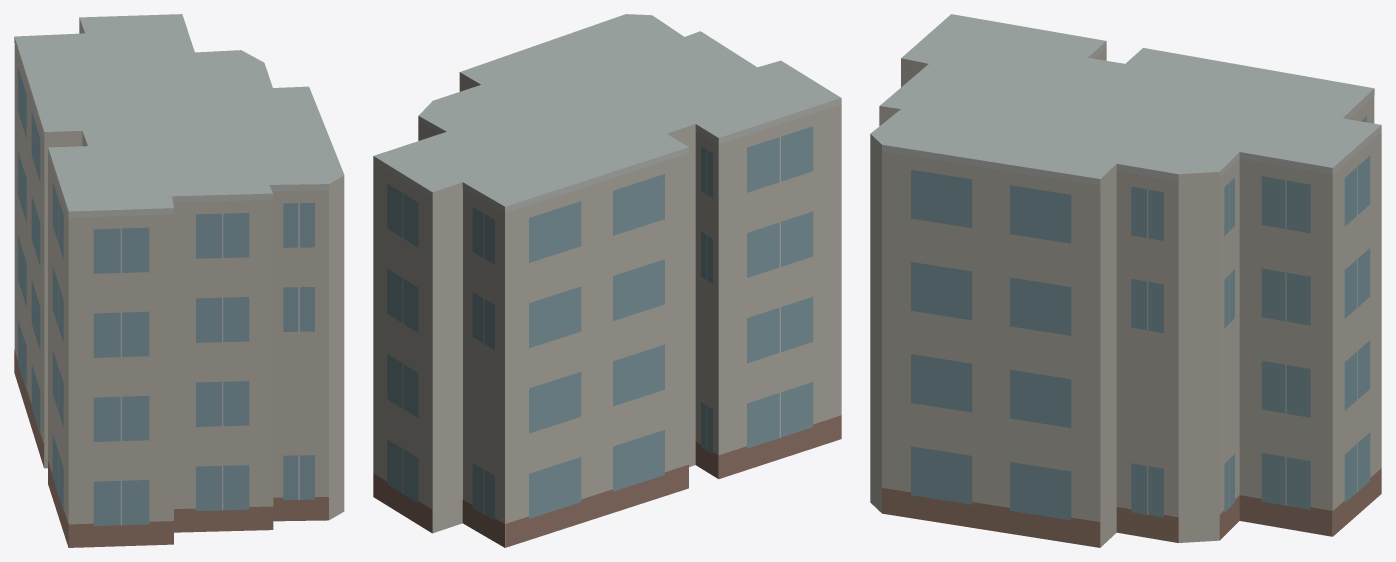
File: survey-upis-32629437.glb
The picture shows the model from 3 angles, left to right: view 1: azimuth 30°, elevation 25°; view 2: azimuth 150°, elevation 25°; view 3: azimuth 270°, elevation 25°; orthographic projection. The views are drawn at different scales.
Parts seen in each view (by area): view 1: survey-upis-32629437.tmp; view 2: survey-upis-32629437.tmp; view 3: survey-upis-32629437.tmp.
Boxes of the visible parts, x1,y1,x2,y2 form: survey-upis-32629437.tmp: [14, 14, 344, 547]; survey-upis-32629437.tmp: [373, 14, 841, 547]; survey-upis-32629437.tmp: [870, 14, 1381, 547].
Bounding box in the file's own units: 12.65 × 13.17 × 16.56.
